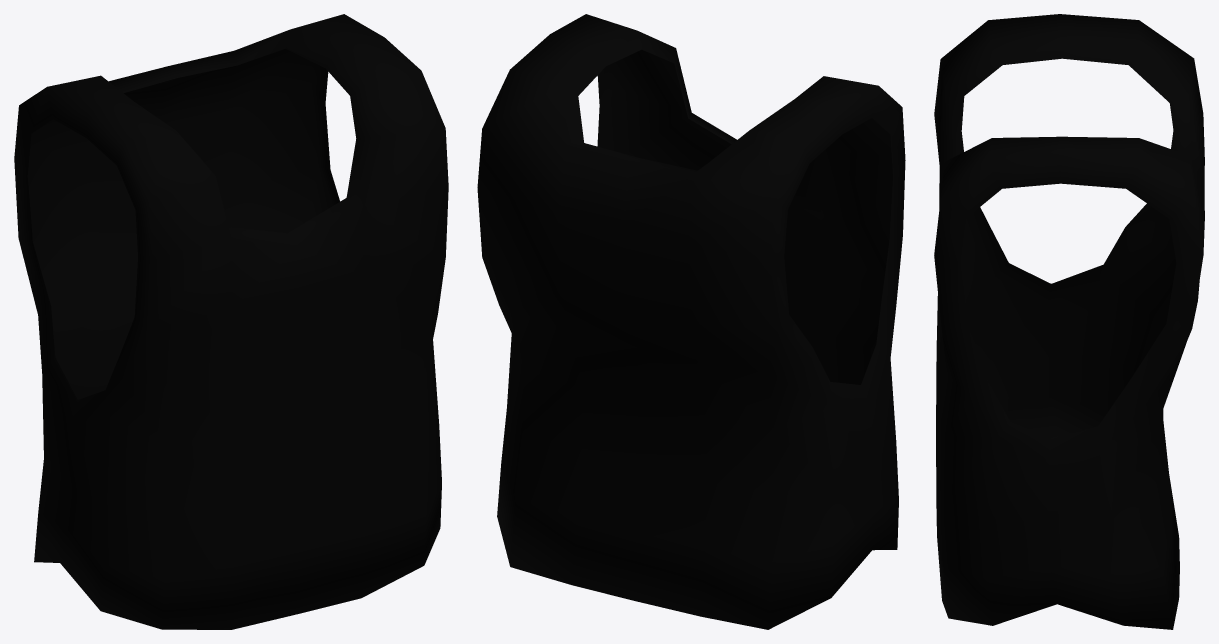
The model's file is tank_top.gltf.
The picture shows the model from 3 angles, left to right: view 1: azimuth 30°, elevation 25°; view 2: azimuth 150°, elevation 25°; view 3: azimuth 270°, elevation 25°; orthographic projection. The views are drawn at different scales.
Visible parts, largest first — view 1: Tank-Top; view 2: Tank-Top; view 3: Tank-Top.
Boxes of the visible parts, x1,y1,x2,y2 form: Tank-Top: (14,14,448,629); Tank-Top: (477,14,905,629); Tank-Top: (934,14,1204,629).
Bounding box in the file's own units: 0.4712 × 0.6296 × 0.3184.
